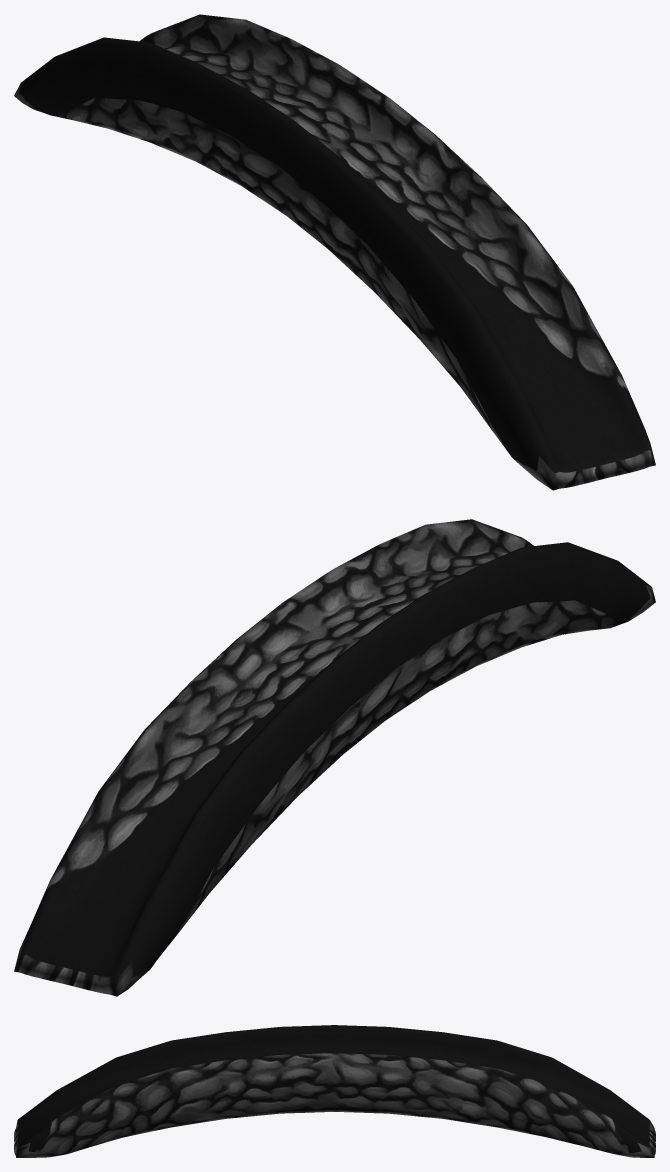
File: BridgeShape1.dae
3 views of the same model, one above another, from view 1: azimuth 30°, elevation 25°; view 2: azimuth 150°, elevation 25°; view 3: azimuth 270°, elevation 25° (orthographic). The views are drawn at different scales.
Visible parts, largest first — view 1: Bridge1; view 2: Bridge1; view 3: Bridge1.
Part boxes in pixels (box(x1,y1,x2,y2)): Bridge1: box(14, 14, 655, 490); Bridge1: box(14, 519, 655, 996); Bridge1: box(14, 1025, 655, 1157).
Bounding box in the file's own units: 10.77 × 14.95 × 83.6.
